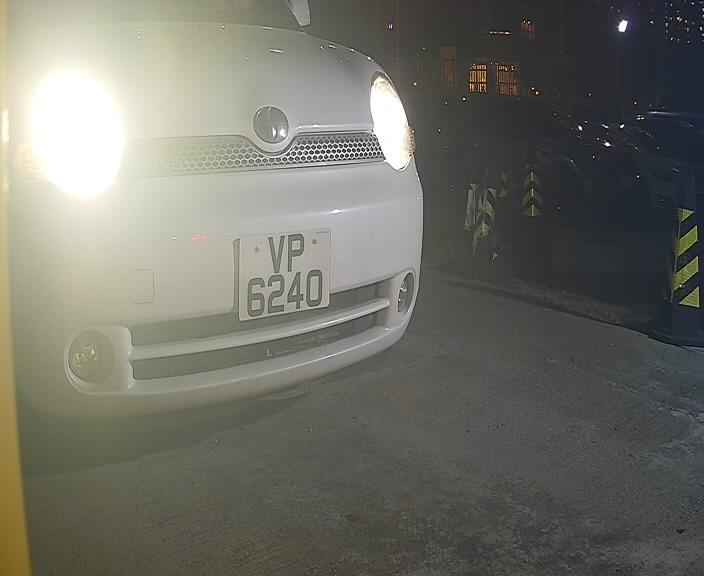Car: (1, 1, 500, 471)
License Plate: (227, 217, 343, 340)
